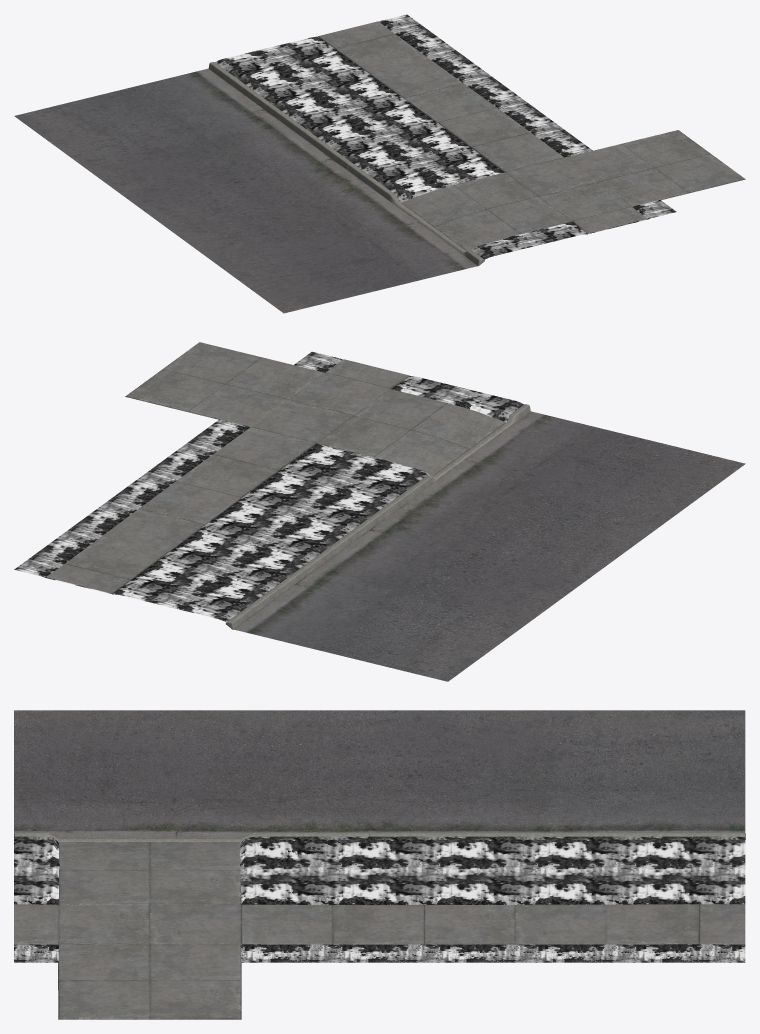
File: SM_Road_Driveway_01_Right.fbx
3 views of the same model, one above another, from view 1: azimuth 30°, elevation 25°; view 2: azimuth 150°, elevation 25°; view 3: azimuth 270°, elevation 25° (orthographic). The views are drawn at different scales.
Parts seen in each view (by area): view 1: SM_Road_Driveway_01_Right; view 2: SM_Road_Driveway_01_Right; view 3: SM_Road_Driveway_01_Right.
Part boxes in pixels (x1,y1,x2,y2): SM_Road_Driveway_01_Right: [14, 14, 745, 313]; SM_Road_Driveway_01_Right: [14, 342, 745, 681]; SM_Road_Driveway_01_Right: [14, 710, 745, 1019].
Bounding box in the file's own units: 952 × 931 × 13.39.
Materials: 4 (4 with a texture image).
